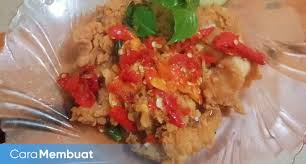ayam_geprek: (69, 15, 262, 163)
